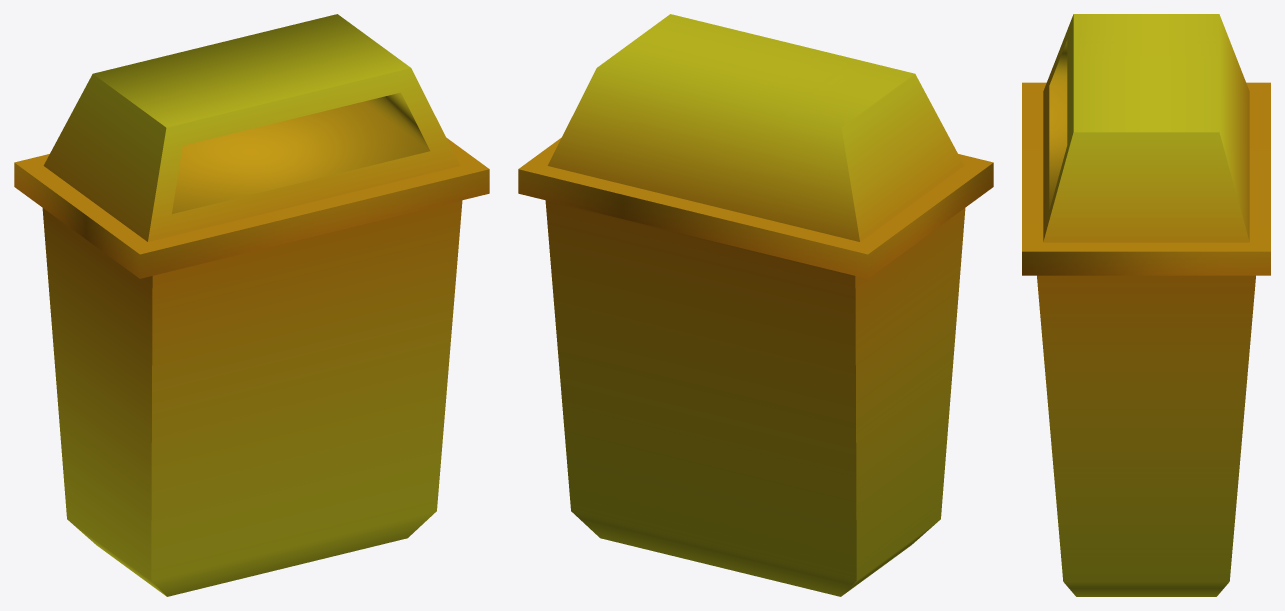
The model's file is Lixeira_Met.fbx.
3 views of the same model, side by side, from view 1: azimuth 30°, elevation 25°; view 2: azimuth 150°, elevation 25°; view 3: azimuth 270°, elevation 25° (orthographic).
Visible parts, largest first — view 1: Lixeira_Met; view 2: Lixeira_Met; view 3: Lixeira_Met.
Boxes of the visible parts, x1,y1,x2,y2 form: Lixeira_Met: (14, 14, 489, 596); Lixeira_Met: (518, 14, 993, 596); Lixeira_Met: (1022, 14, 1270, 596).
Bounding box in the file's own units: 14.2 × 18.27 × 8.84.
